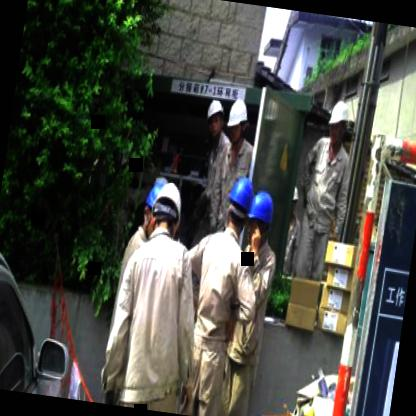helmet: (139, 174, 185, 245), (238, 186, 278, 262), (221, 174, 256, 242), (325, 96, 356, 152), (224, 96, 252, 145), (201, 94, 227, 140), (147, 174, 163, 239)
